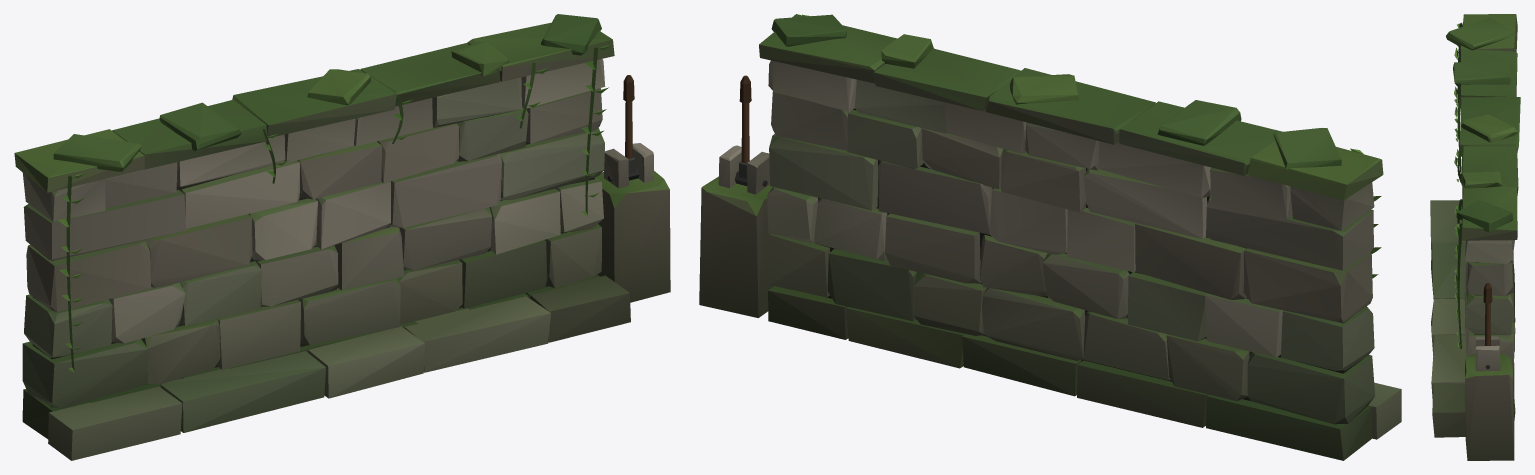
File: feed-wall.glb
3 renders of one model, left to right at view 1: azimuth 30°, elevation 25°; view 2: azimuth 150°, elevation 25°; view 3: azimuth 270°, elevation 25°, orthographic. The views are drawn at different scales.
Visible parts, largest first — view 1: feed-wall, lever; view 2: feed-wall, lever; view 3: feed-wall, lever.
Boxes of the visible parts, box(x1,y1,x2,y2) form: feed-wall: box(14, 14, 670, 460); lever: box(623, 75, 639, 180); feed-wall: box(699, 14, 1401, 460); lever: box(734, 75, 751, 185); feed-wall: box(1430, 14, 1520, 460); lever: box(1483, 283, 1492, 345).
Bounding box in the file's own units: 6.34 × 2.7 × 1.02.
